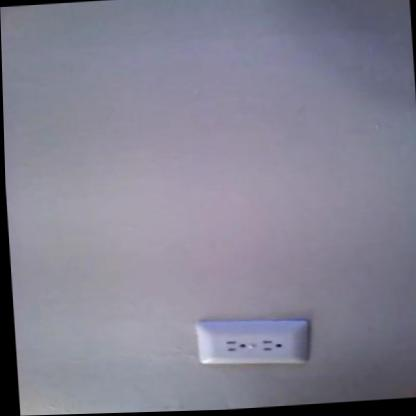OUTLET: (195, 315, 311, 372)
